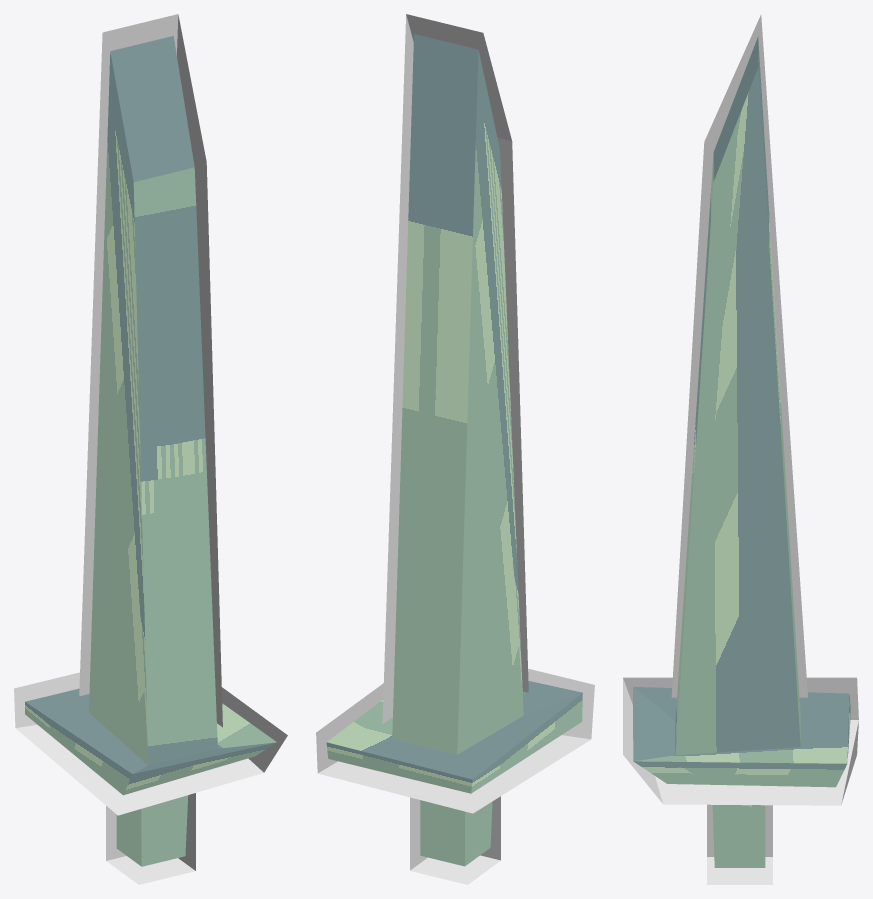
File: sword.glb
The picture shows the model from 3 angles, left to right: view 1: azimuth 30°, elevation 25°; view 2: azimuth 150°, elevation 25°; view 3: azimuth 270°, elevation 25°; orthographic projection.
Visible parts, largest first — view 1: Cube.002; view 2: Cube.002; view 3: Cube.002.
Part boxes in pixels (bbox=[...]): Cube.002: bbox=[14, 14, 287, 884]; Cube.002: bbox=[316, 14, 594, 884]; Cube.002: bbox=[623, 14, 858, 884].
Size of the model in its own units: 0.592 by 2.81 by 0.7157.
2 materials, 1 textured.
